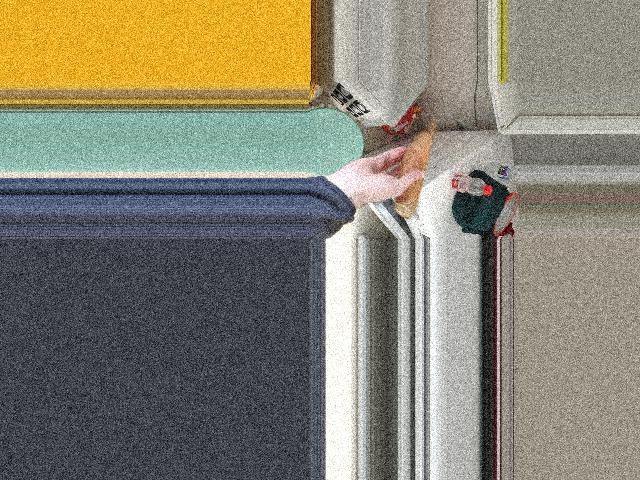sweet_potato: (390, 121, 441, 212)
